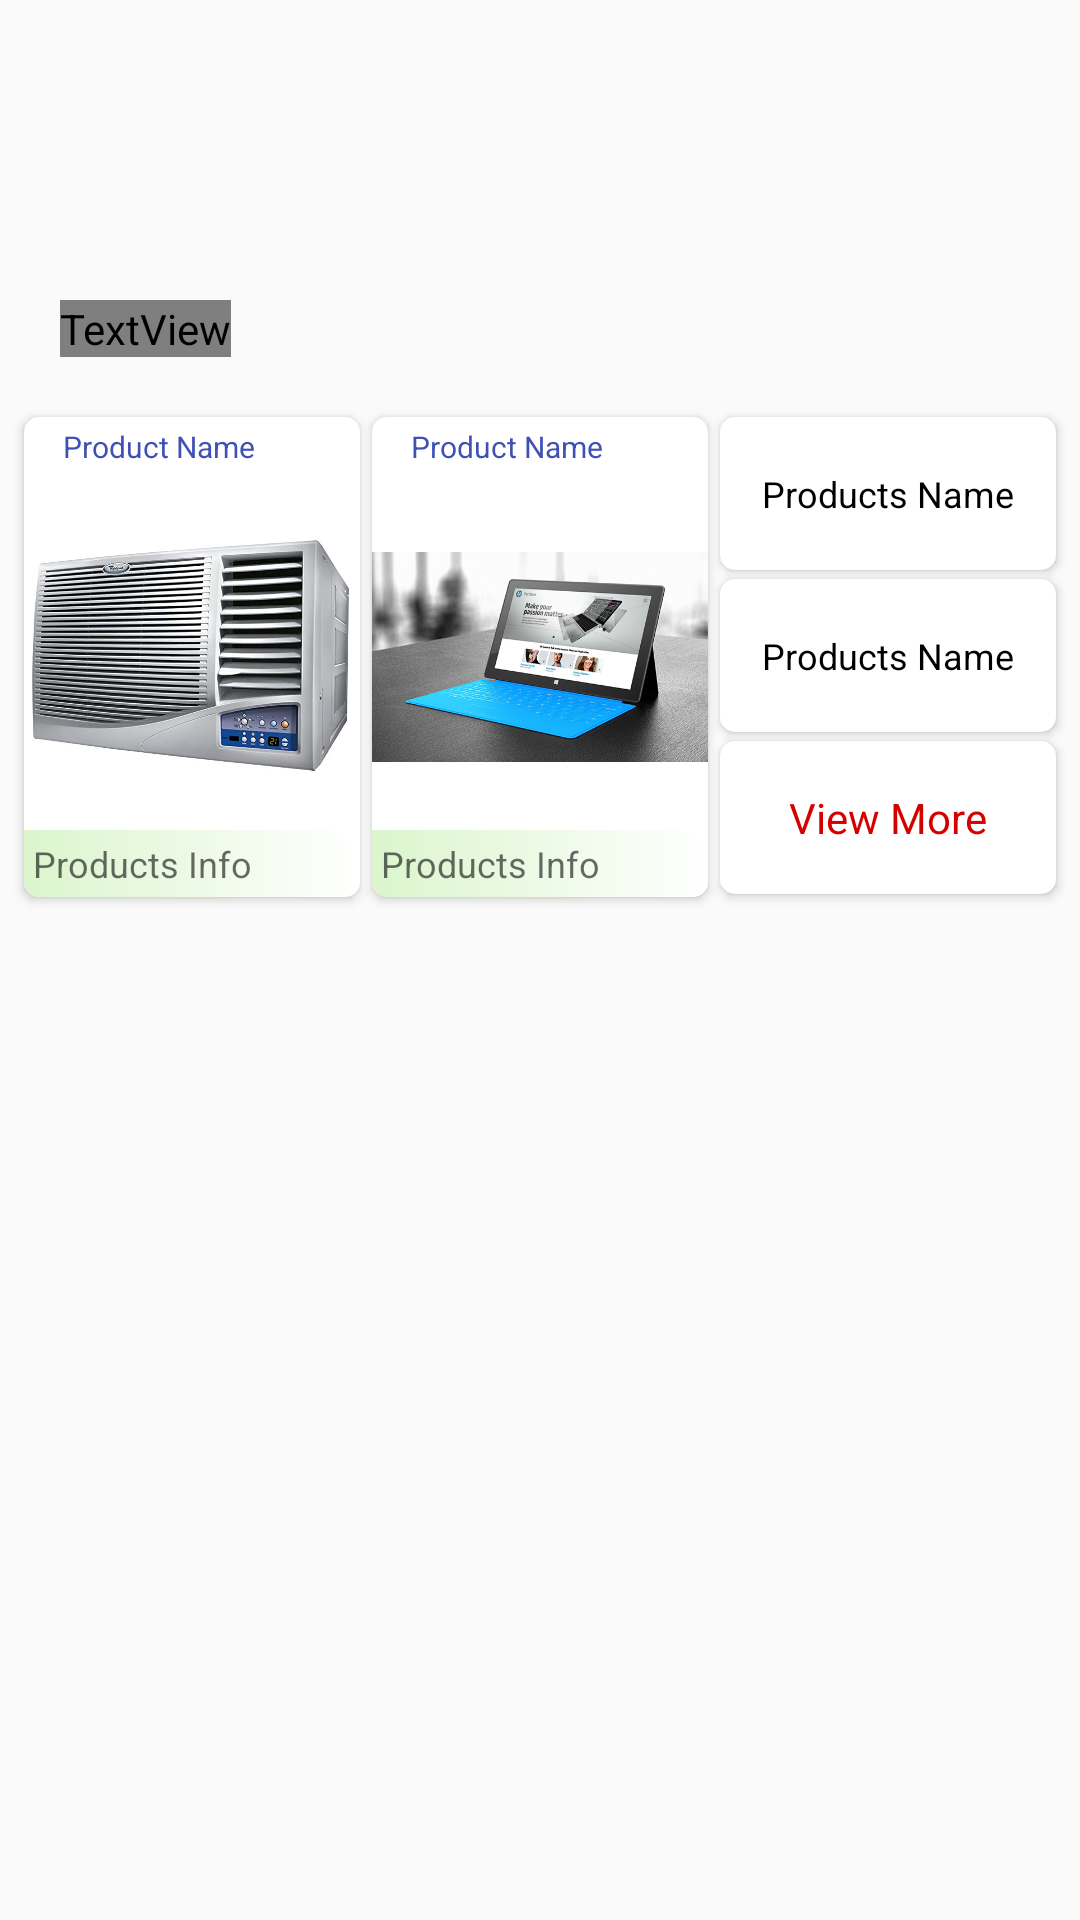

Screen size 1080px×1920px. Icon name, then its center in pixels as [x,y]:
ac images: [190,655]
laptop: [540,657]
